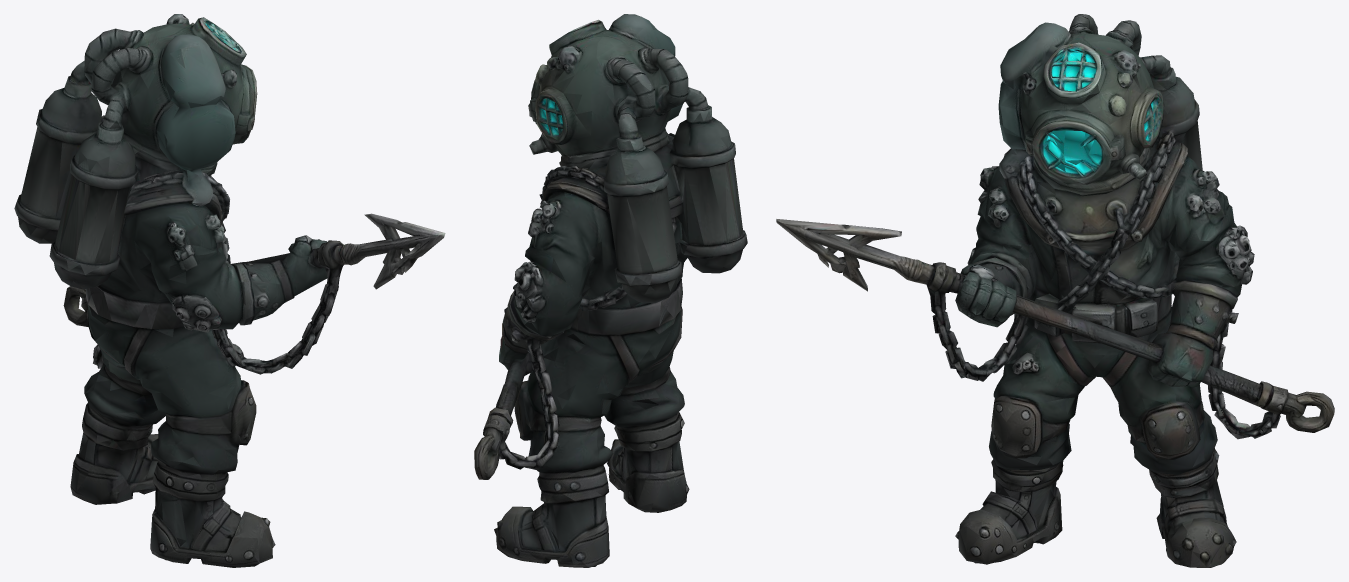
Rendered from diver.glb.
The picture shows the model from 3 angles, left to right: view 1: azimuth 30°, elevation 25°; view 2: azimuth 150°, elevation 25°; view 3: azimuth 270°, elevation 25°; orthographic projection. The views are drawn at different scales.
Visible parts, largest first — view 1: tripo_node_136fadf7-1fdc-4fb1-ba31-0ecd6c3a6f42; view 2: tripo_node_136fadf7-1fdc-4fb1-ba31-0ecd6c3a6f42; view 3: tripo_node_136fadf7-1fdc-4fb1-ba31-0ecd6c3a6f42.
Part boxes in pixels (box(x1,y1,x2,y2)): tripo_node_136fadf7-1fdc-4fb1-ba31-0ecd6c3a6f42: box(14, 14, 445, 567); tripo_node_136fadf7-1fdc-4fb1-ba31-0ecd6c3a6f42: box(474, 14, 747, 567); tripo_node_136fadf7-1fdc-4fb1-ba31-0ecd6c3a6f42: box(776, 14, 1334, 567).
Size of the model in its own units: 0.5023 by 0.9798 by 0.9593.
1 material, 1 textured.
